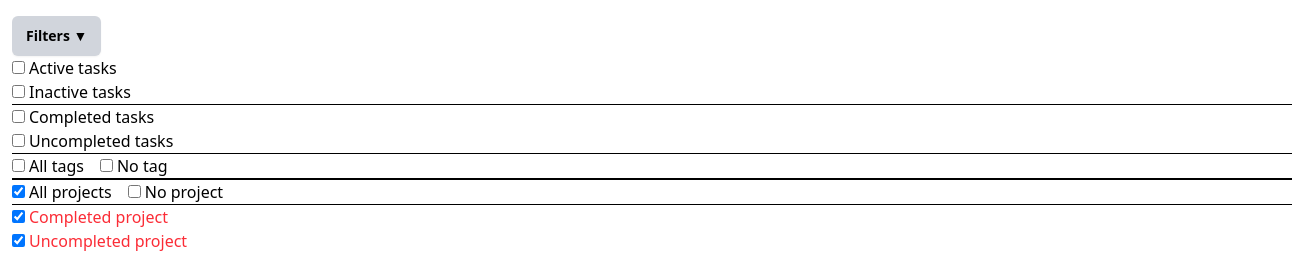
Test: TaskFilters › Shows both completed and uncompleted project filters
Expected: the checkbox labelled "Uncompleted tasks" is not checked, [12,134,25,147]
Click the checkbox labelled "Completed tasks": [18, 116] box [12,110,25,123]
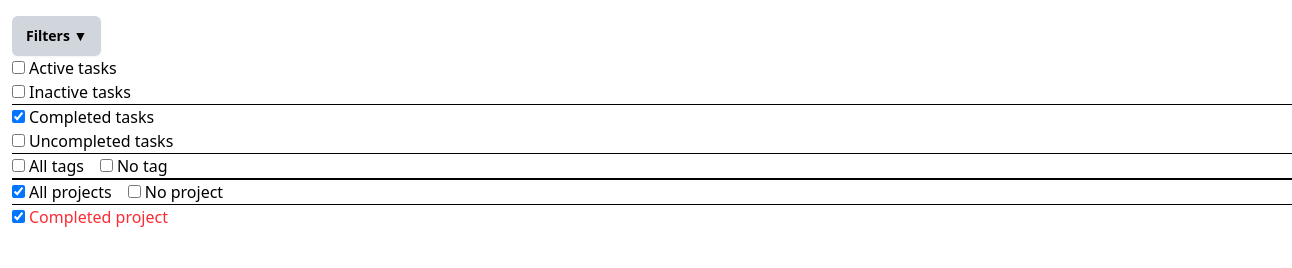
Click the checkbox labelled "Uncompleted tasks": [18, 140] box [12,134,25,147]
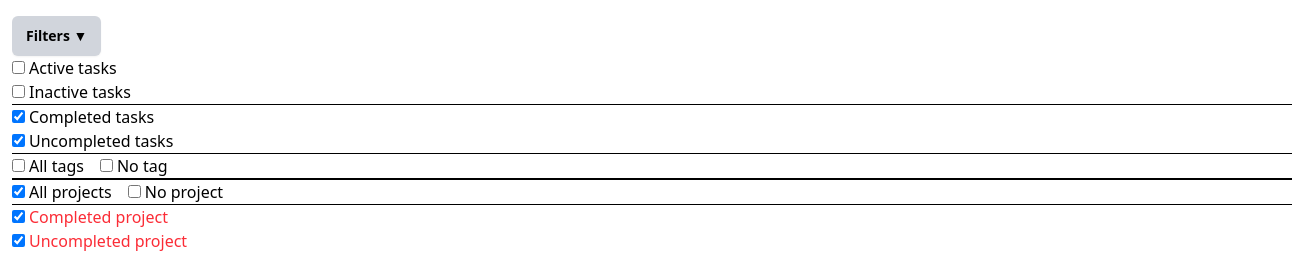
Expected: the checkbox labelled "Completed tasks" is checked, [12,110,25,123]
Expected: the checkbox labelled "Uncompleted tasks" is checked, [12,134,25,147]
Expected: the checkbox labelled "Uncompleted project" is shown, [12,234,25,247]
